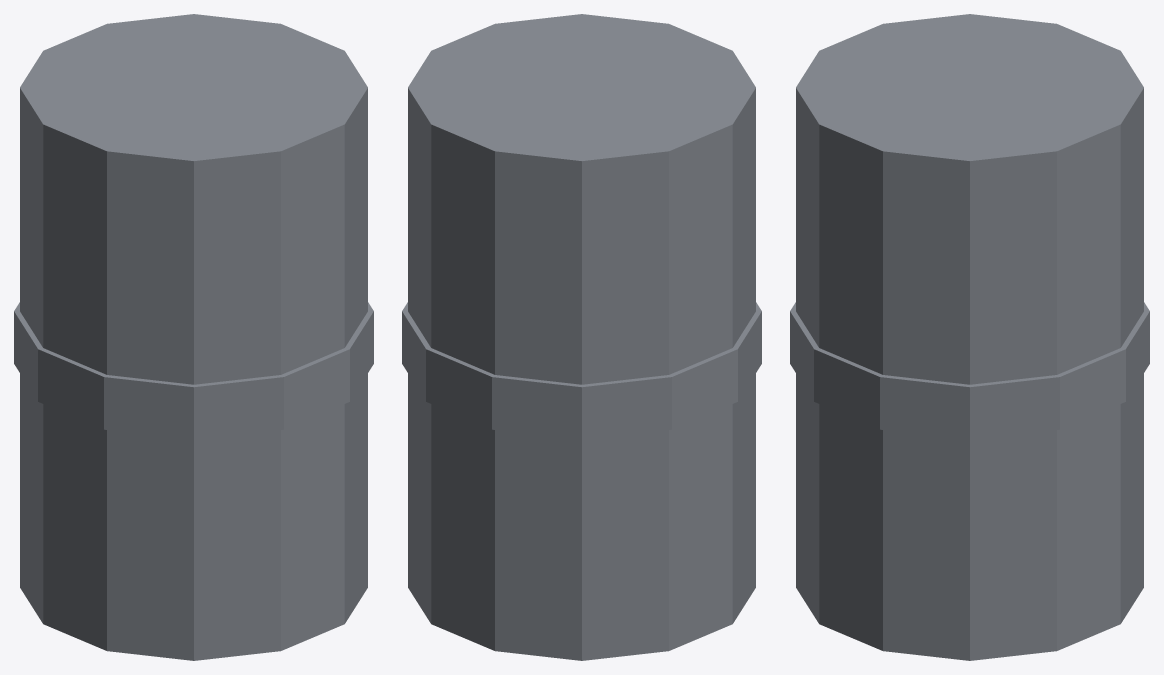
Rendered from TL_Socket_17.fbx.
3 views of the same model, side by side, from view 1: azimuth 30°, elevation 25°; view 2: azimuth 150°, elevation 25°; view 3: azimuth 270°, elevation 25° (orthographic).
Visible parts, largest first — view 1: TL_Socket_17, TL_Socket_17_ColorRing; view 2: TL_Socket_17, TL_Socket_17_ColorRing; view 3: TL_Socket_17, TL_Socket_17_ColorRing.
Part boxes in pixels (x1=…): TL_Socket_17: x1=20, y1=14, x2=367, y2=660; TL_Socket_17_ColorRing: x1=14, y1=302, x2=373, y2=439; TL_Socket_17: x1=408, y1=14, x2=755, y2=660; TL_Socket_17_ColorRing: x1=402, y1=302, x2=761, y2=439; TL_Socket_17: x1=796, y1=14, x2=1143, y2=660; TL_Socket_17_ColorRing: x1=790, y1=302, x2=1149, y2=439.
Bounding box in the file's own units: 0.0248 × 0.038 × 0.0248.
1 material, 1 textured.
